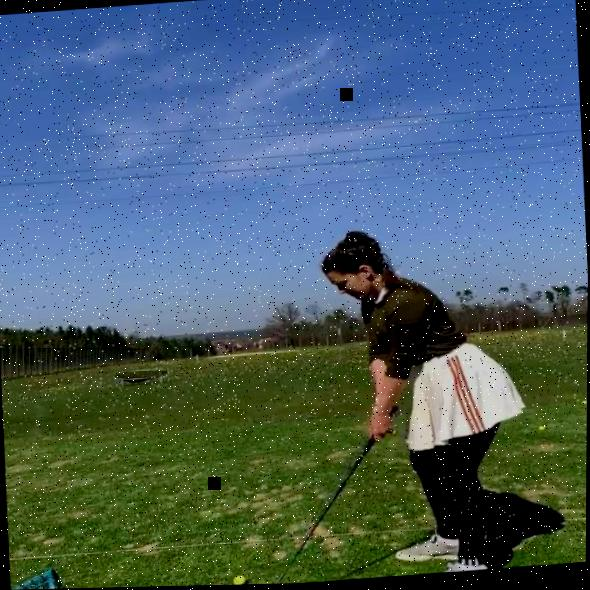GolfBall: (234, 576, 246, 586)
